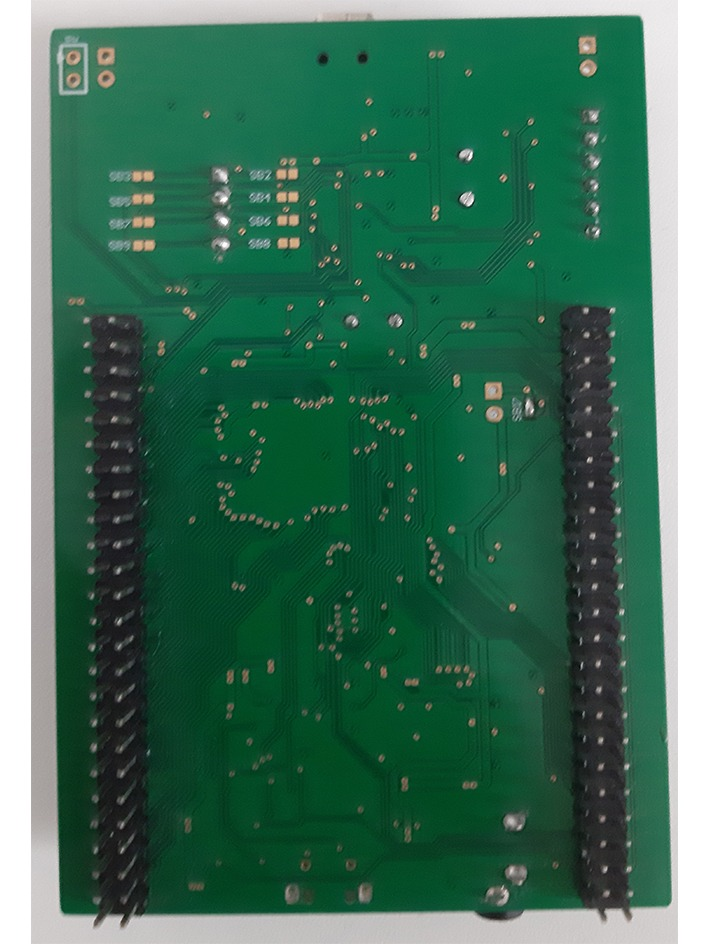STM32F4-DISC: (34, 18, 684, 944)
